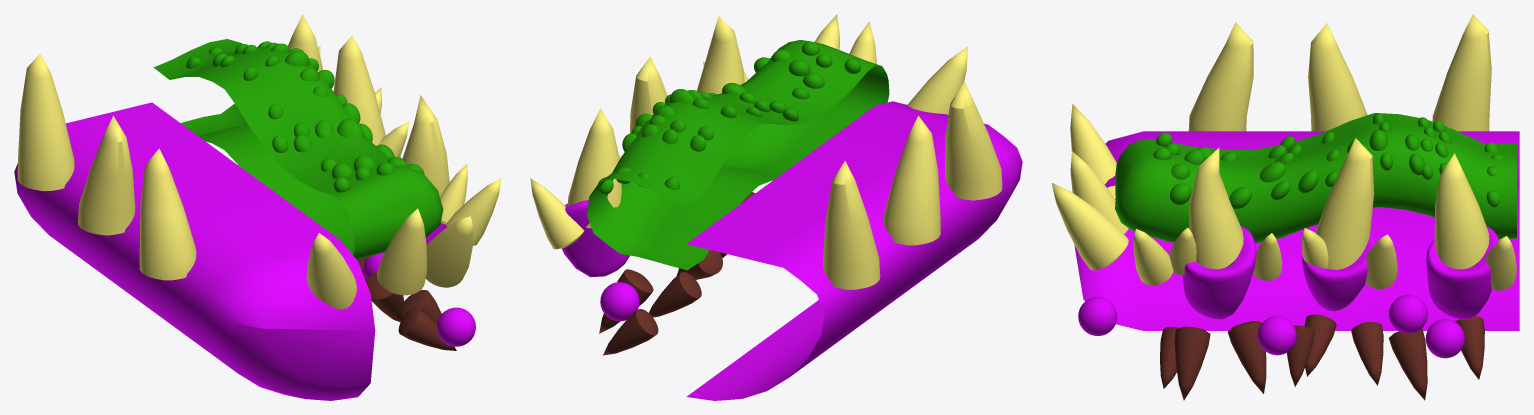
File: Monster_Bottom_Part_01.fbx
3 views of the same model, side by side, from view 1: azimuth 30°, elevation 25°; view 2: azimuth 150°, elevation 25°; view 3: azimuth 270°, elevation 25° (orthographic).
Parts seen in each view (by area): view 1: UpperMouth.002, Sphere.002, Cylinder.012, Cylinder.014, Cylinder.013, Cylinder.048, Cylinder.046, Cylinder.059, Cylinder.043, Cylinder.045, Cylinder.064, Cylinder.078 (+6 smaller); view 2: Sphere.002, UpperMouth.002, Cylinder.013, Cylinder.012, Cylinder.014, Cylinder.047, Eye_01.018, Cylinder.045, Cylinder.059, Cylinder.065, Cylinder.046, Cylinder.079 (+6 smaller); view 3: Sphere.002, UpperMouth.002, Cylinder.046, Cylinder.012, Cylinder.014, Cylinder.047, Cylinder.045, Cylinder.013, Eye_01.020, Eye_01.018, Cylinder.043, Eye_01.019 (+20 smaller).
Part boxes in pixels (left/top/right/bottom): UpperMouth.002: left=14, top=102, right=375, bottom=400; Sphere.002: left=153, top=39, right=443, bottom=259; Cylinder.012: left=17, top=53, right=74, bottom=191; Cylinder.014: left=139, top=148, right=196, bottom=280; Cylinder.013: left=78, top=115, right=135, bottom=235; Cylinder.048: left=377, top=208, right=427, bottom=295; Cylinder.046: left=333, top=35, right=385, bottom=145; Cylinder.059: left=306, top=233, right=356, bottom=309; Cylinder.043: left=425, top=216, right=473, bottom=287; Cylinder.045: left=402, top=95, right=449, bottom=196; Cylinder.064: left=446, top=178, right=501, bottom=245; Cylinder.078: left=398, top=307, right=456, bottom=350; Sphere.002: left=587, top=40, right=889, bottom=270; UpperMouth.002: left=686, top=101, right=1022, bottom=400; Cylinder.013: left=883, top=116, right=940, bottom=245; Cylinder.012: left=823, top=161, right=880, bottom=289; Cylinder.014: left=945, top=81, right=1002, bottom=200; Cylinder.047: left=568, top=108, right=621, bottom=228; Eye_01.018: left=562, top=200, right=629, bottom=277; Cylinder.045: left=696, top=15, right=744, bottom=94; Cylinder.059: left=907, top=46, right=967, bottom=114; Cylinder.065: left=530, top=178, right=584, bottom=249; Cylinder.046: left=630, top=56, right=667, bottom=133; Cylinder.079: left=603, top=309, right=658, bottom=355; Sphere.002: left=1115, top=113, right=1516, bottom=243; UpperMouth.002: left=1074, top=131, right=1519, bottom=330; Cylinder.046: left=1315, top=138, right=1374, bottom=269; Cylinder.012: left=1432, top=14, right=1491, bottom=131; Cylinder.014: left=1188, top=22, right=1253, bottom=131; Cylinder.047: left=1434, top=153, right=1489, bottom=269; Cylinder.045: left=1189, top=147, right=1243, bottom=269; Cylinder.013: left=1308, top=23, right=1367, bottom=131; Eye_01.020: left=1182, top=226, right=1256, bottom=319; Eye_01.018: left=1426, top=226, right=1498, bottom=319; Cylinder.043: left=1051, top=183, right=1128, bottom=270; Eye_01.019: left=1302, top=231, right=1375, bottom=311.
Size of the model in its own units: 249 by 189 by 313.
